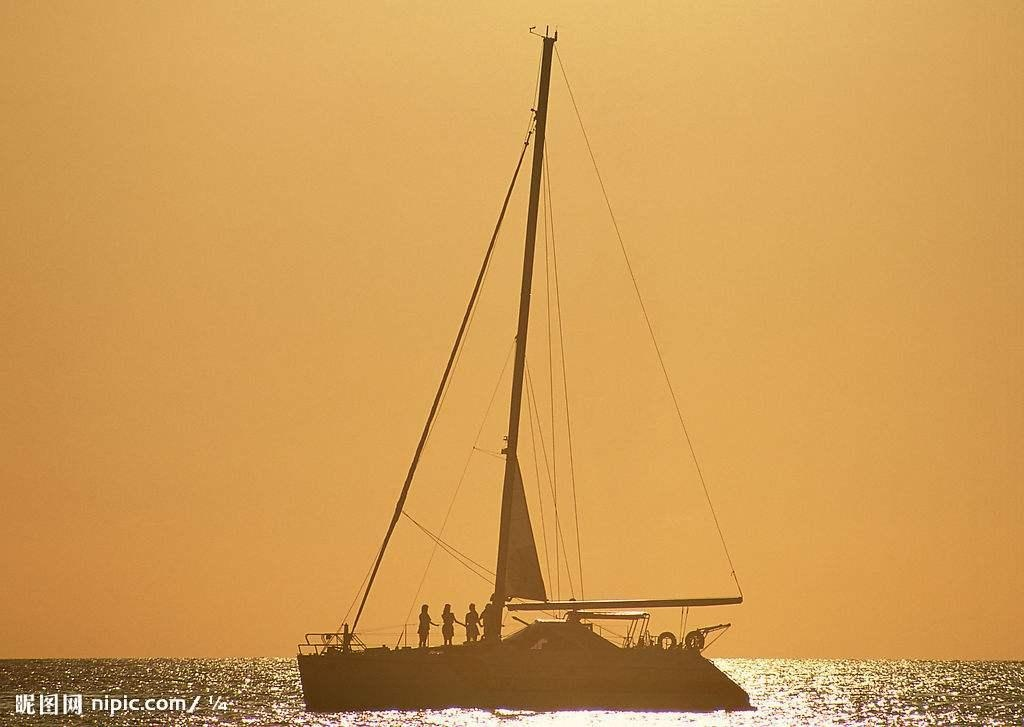fanchuan: (297, 18, 758, 718)
